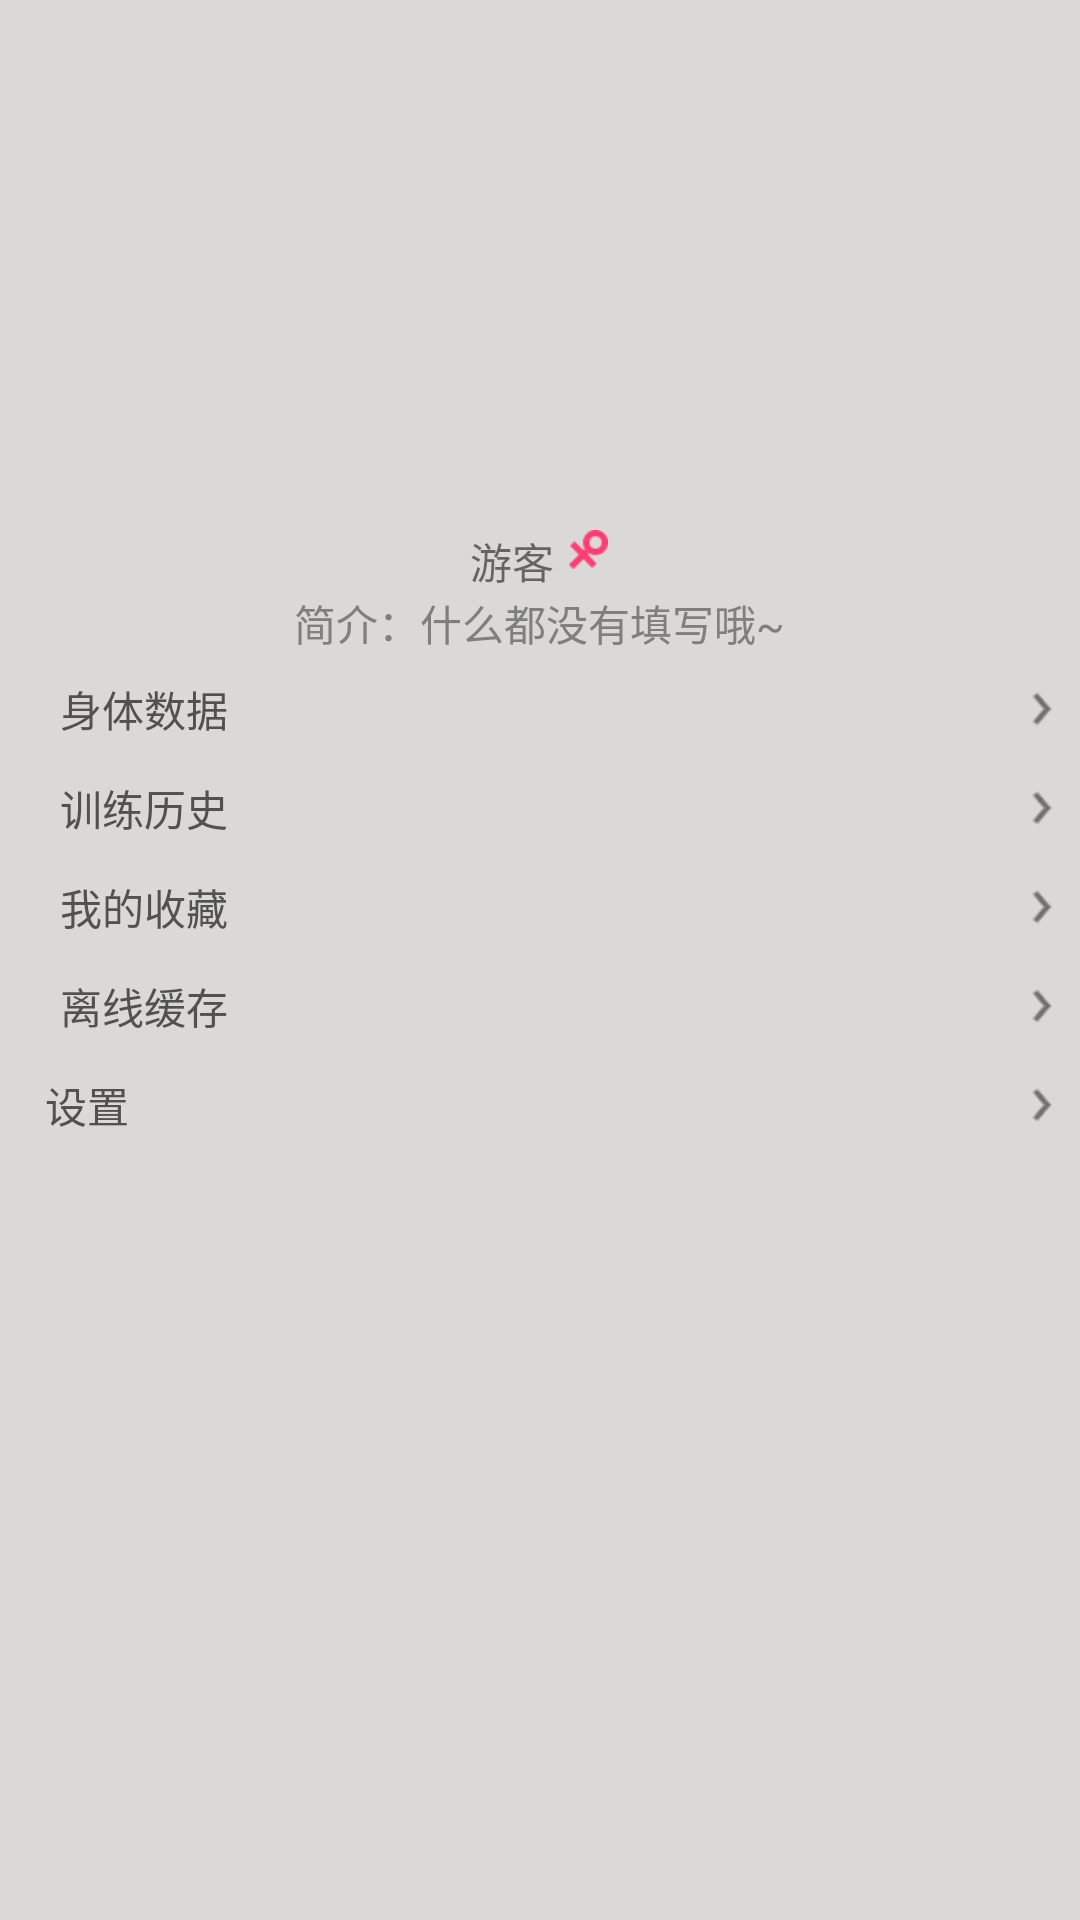

Icons on this 1080w x 1920h Android screen, each with the point to tap as point (x, y):
female: point (588, 549)
